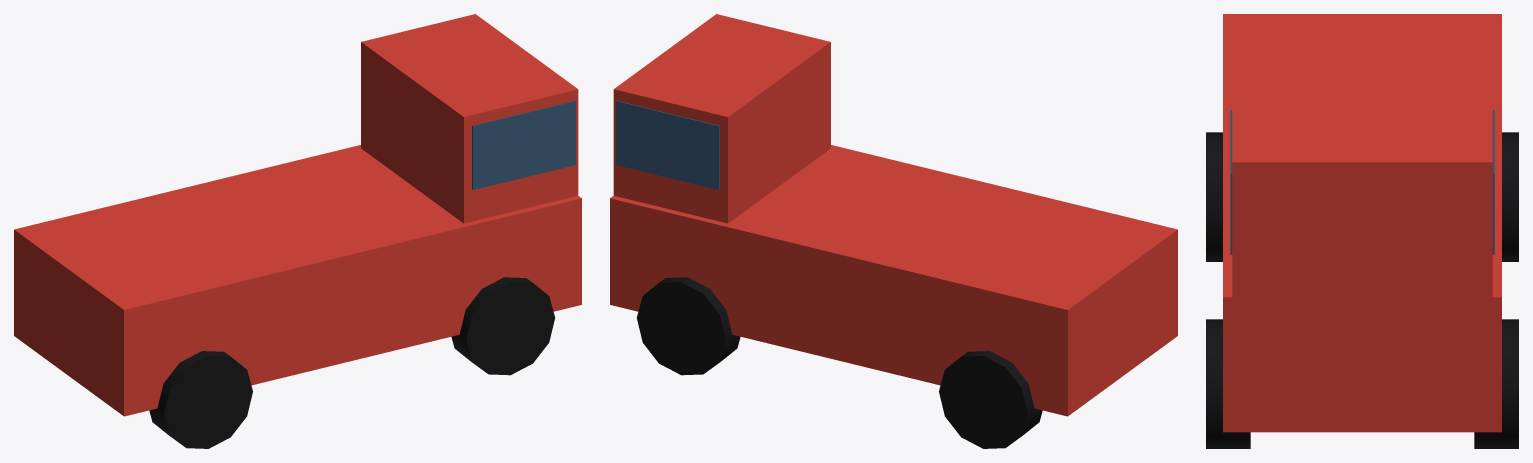
File: truck.glb
3 renders of one model, left to right at view 1: azimuth 30°, elevation 25°; view 2: azimuth 150°, elevation 25°; view 3: azimuth 270°, elevation 25°, orthographic. The views are drawn at different scales.
Parts seen in each view (by area): view 1: truck; view 2: truck; view 3: truck.
Boxes of the visible parts, left/top/right/bottom form: truck: left=14, top=14, right=581, bottom=448; truck: left=610, top=14, right=1177, bottom=448; truck: left=1206, top=14, right=1518, bottom=448.
Size of the model in its own units: 3.6 by 1.95 by 1.68.
